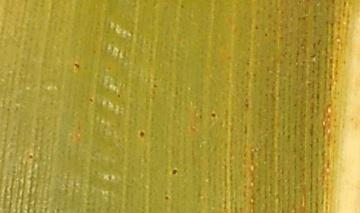tarspot: (170, 168, 178, 177), (138, 130, 145, 139), (86, 97, 94, 104), (115, 93, 122, 100), (27, 153, 33, 161), (151, 83, 159, 89), (254, 24, 260, 32), (163, 195, 170, 201), (73, 62, 79, 69), (262, 32, 269, 38), (210, 112, 216, 118)
